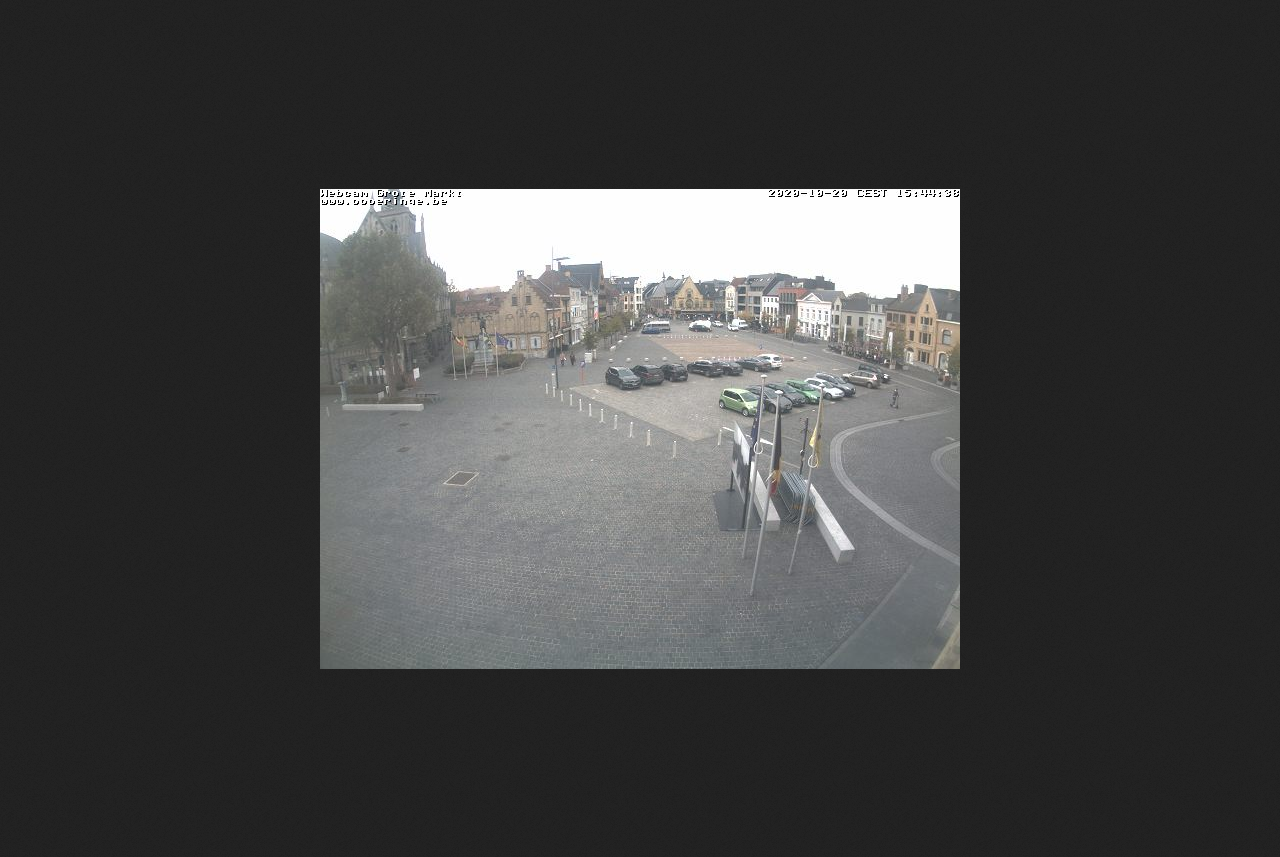no: (802, 385, 829, 470), (747, 370, 771, 459), (768, 394, 787, 486)
